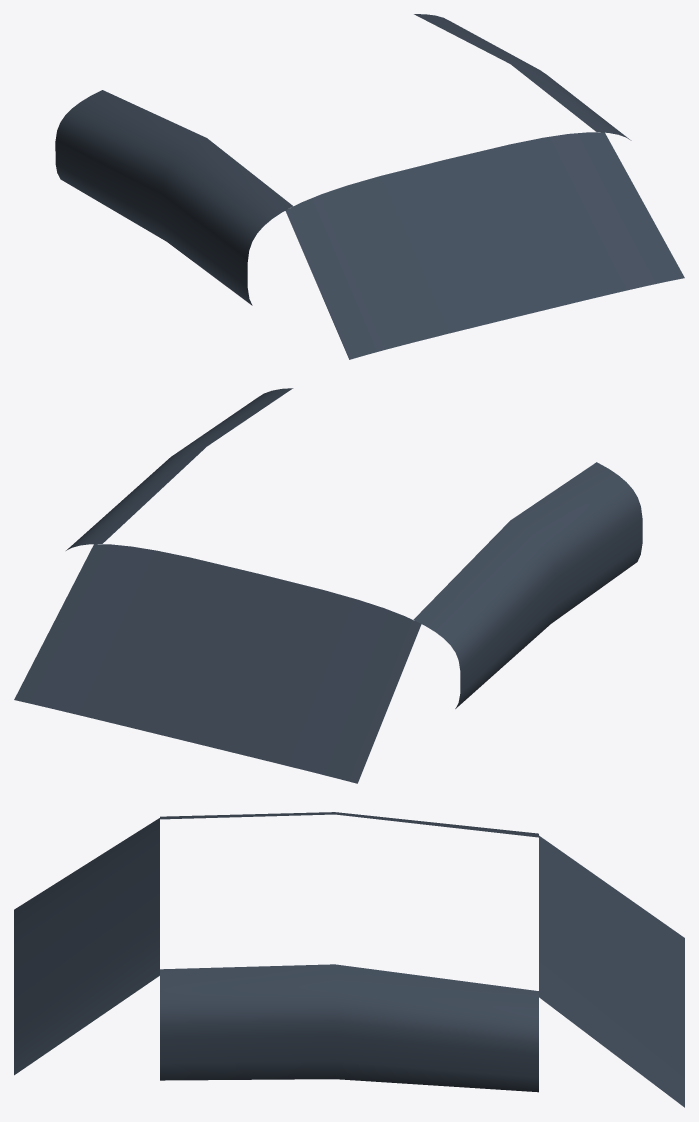
File: sedan_glass.glb
3 renders of one model, top to bottom at view 1: azimuth 30°, elevation 25°; view 2: azimuth 150°, elevation 25°; view 3: azimuth 270°, elevation 25°, orthographic.
Bounding box in the file's own units: 1.62 × 0.5228 × 2.3.
